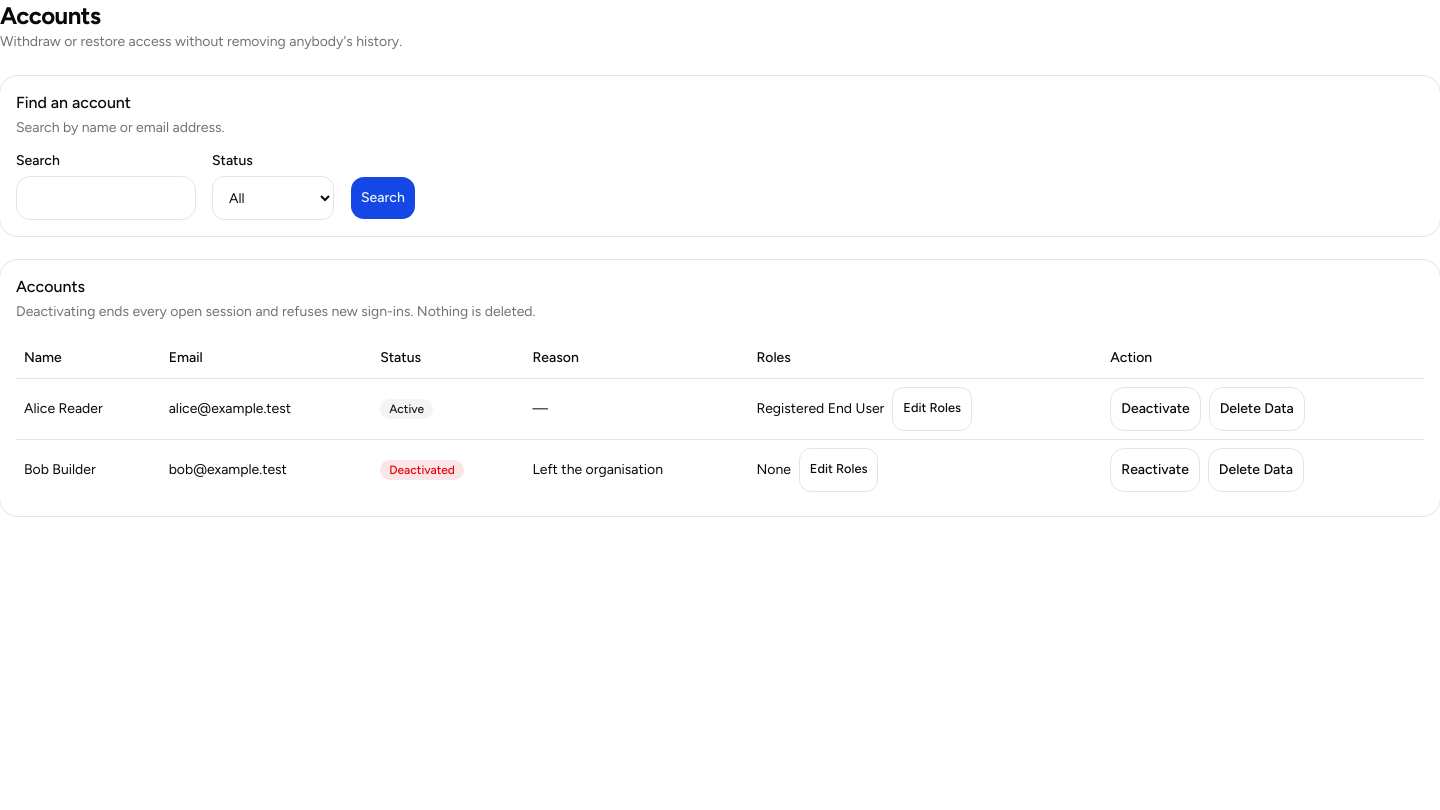
Test case: AccountManagementView › asks before deactivating, and refuses to do it without a reason
Click the button "Deactivate": (1156, 408) [1110, 386, 1201, 430]
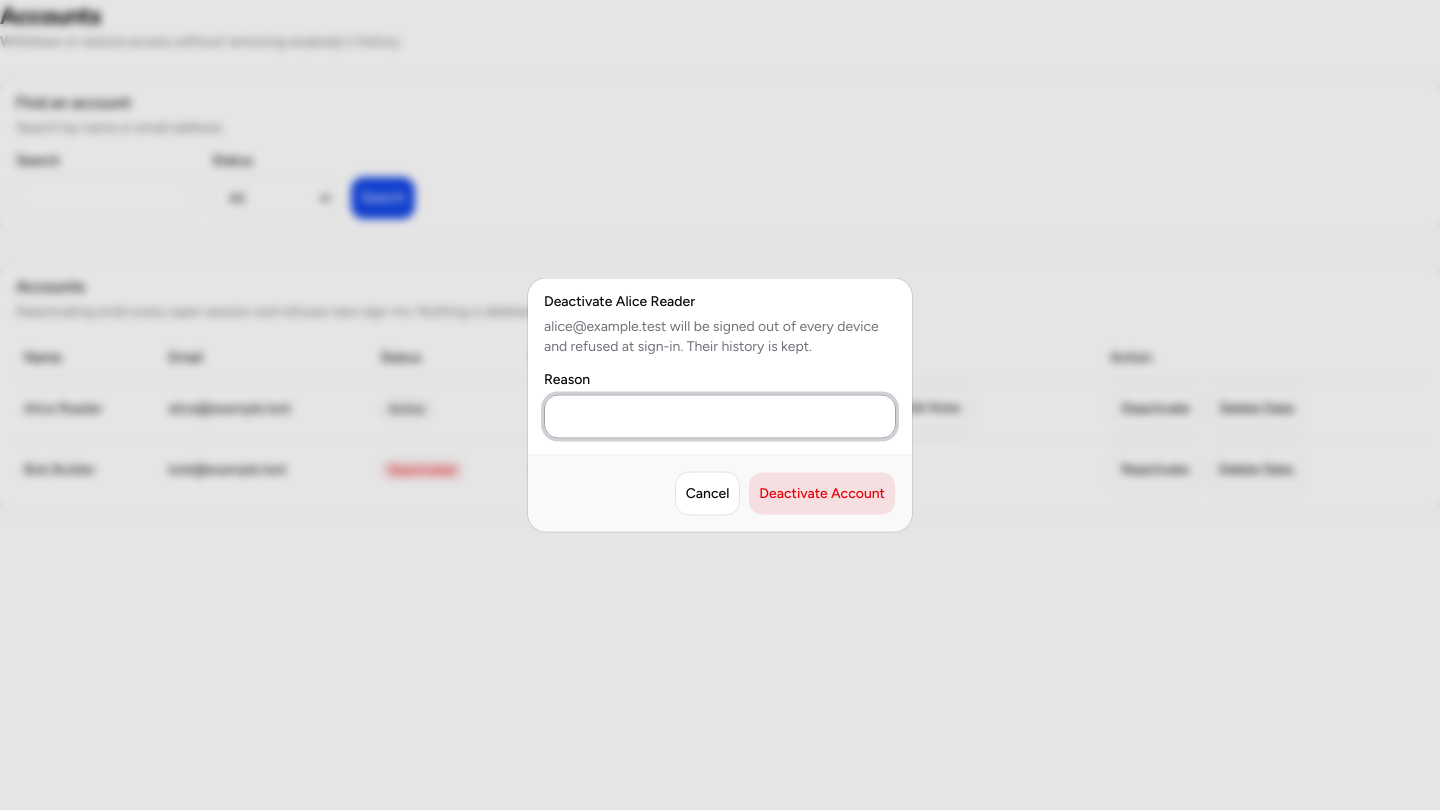
Now the dialog is shown, box [528, 278, 912, 532]
Click the button "Deactivate Account": (822, 494) [748, 472, 896, 516]
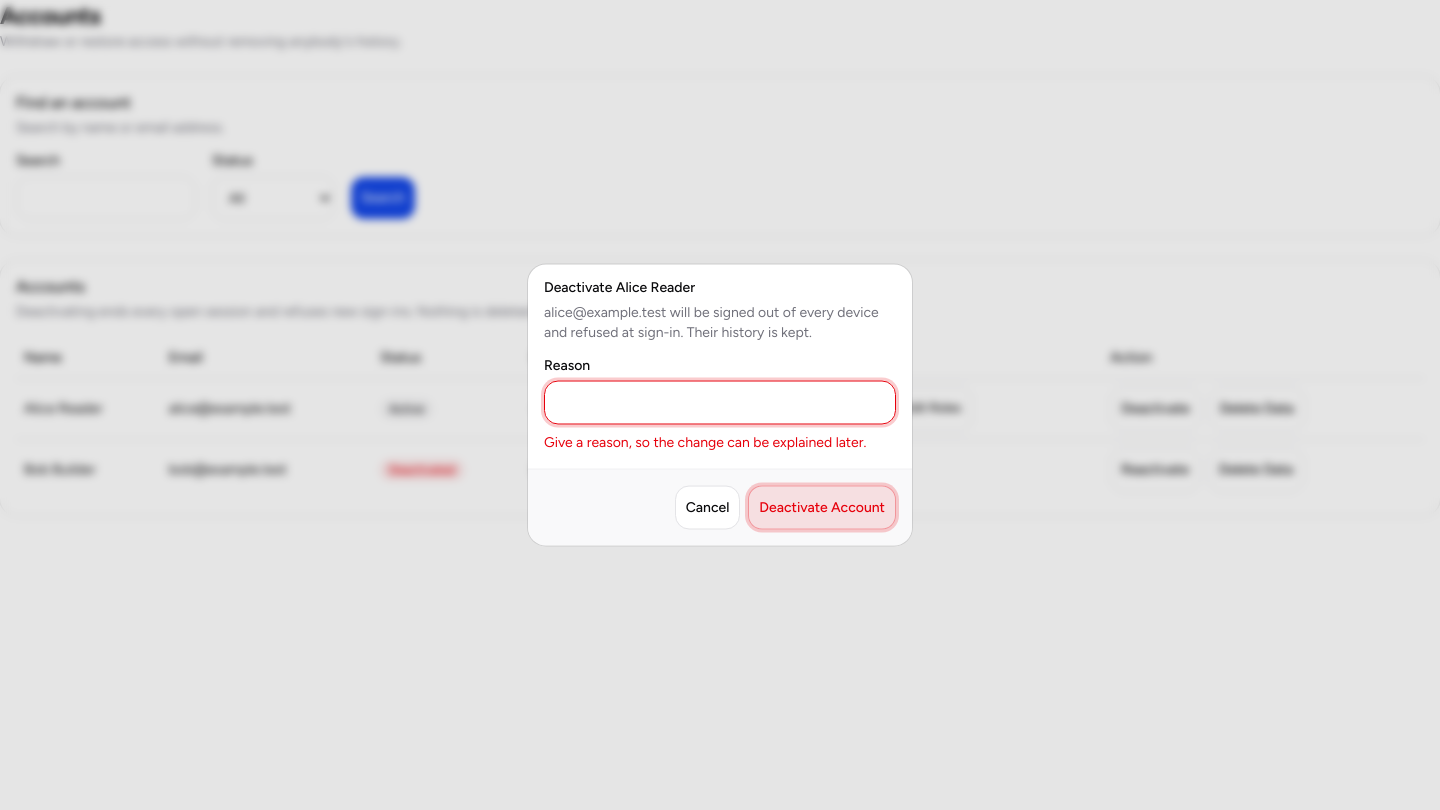
Now the message reads "Give a reason, so the change can be explained later.", box [544, 434, 866, 450]
